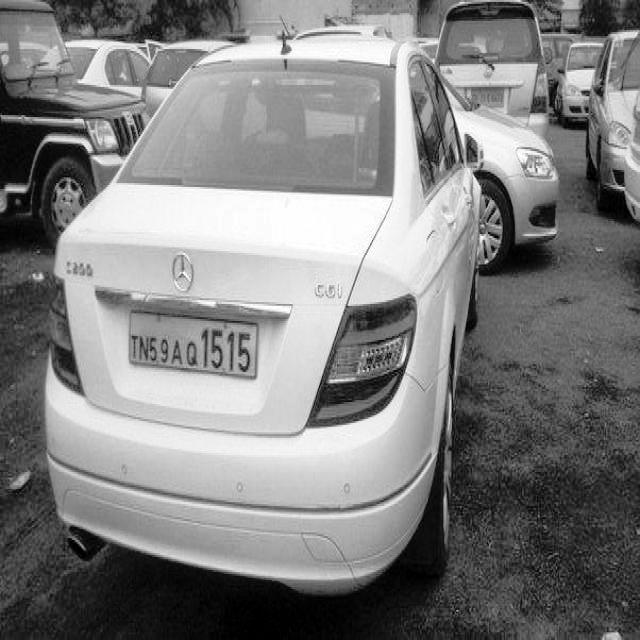Car: (39, 44, 479, 586)
